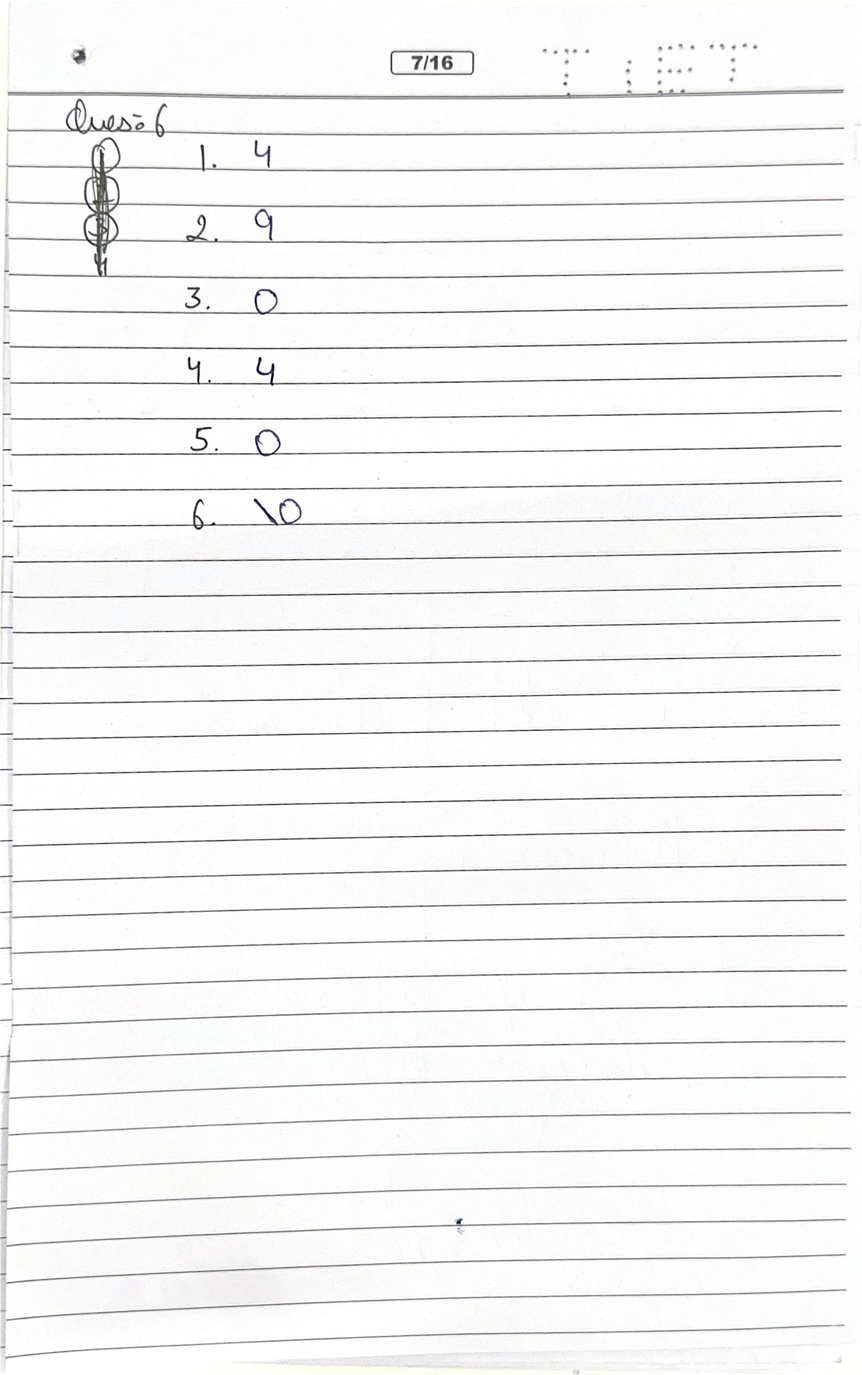cuttings: (80, 136, 127, 279)
